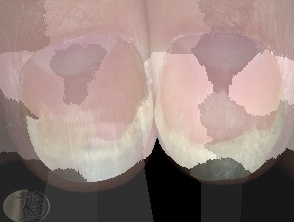Nail_psoriasis: (21, 82, 171, 197), (147, 77, 291, 184)
